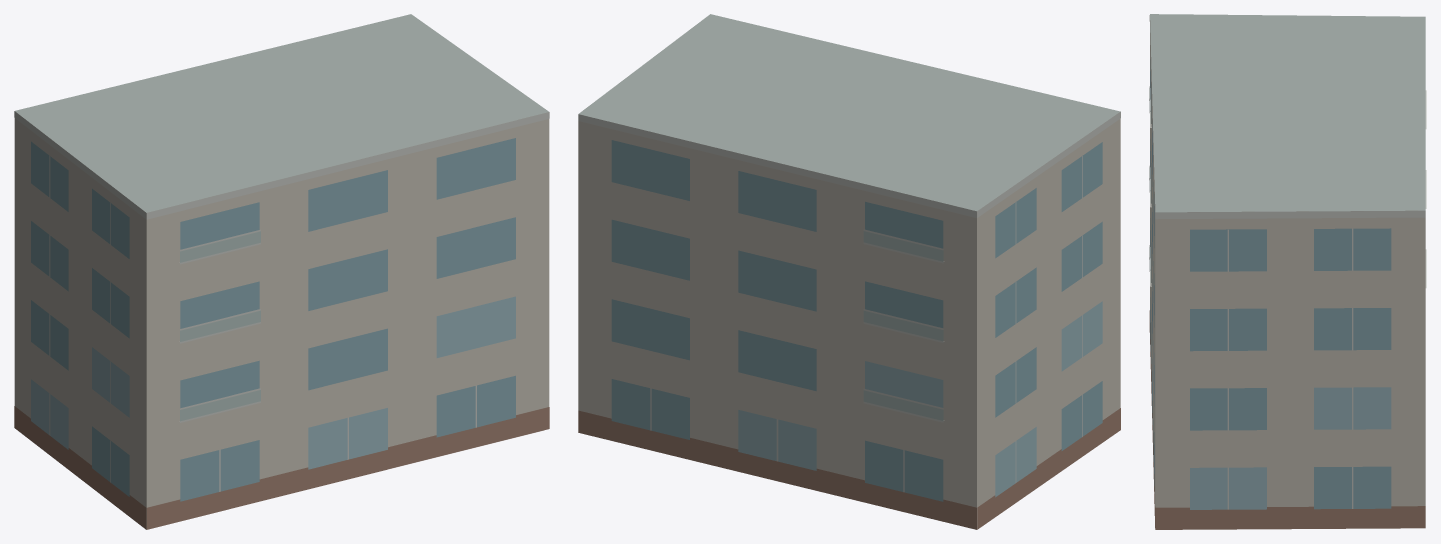
File: survey-upis-32629398.glb
The picture shows the model from 3 angles, left to right: view 1: azimuth 30°, elevation 25°; view 2: azimuth 150°, elevation 25°; view 3: azimuth 270°, elevation 25°; orthographic projection.
Visible parts, largest first — view 1: survey-upis-32629398.tmp; view 2: survey-upis-32629398.tmp; view 3: survey-upis-32629398.tmp.
Part boxes in pixels (box(x1,y1,x2,y2)): survey-upis-32629398.tmp: box(14, 14, 549, 529); survey-upis-32629398.tmp: box(578, 14, 1120, 529); survey-upis-32629398.tmp: box(1149, 14, 1426, 529).
Bounding box in the file's own units: 15.14 × 11.3 × 8.95.
